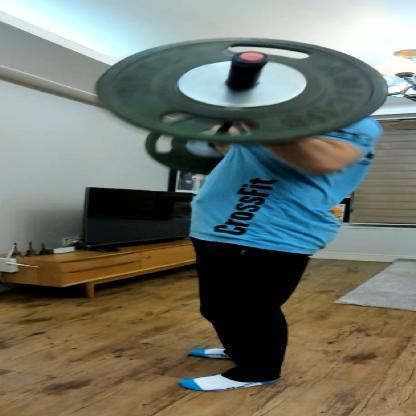barbell: (93, 34, 391, 174)
